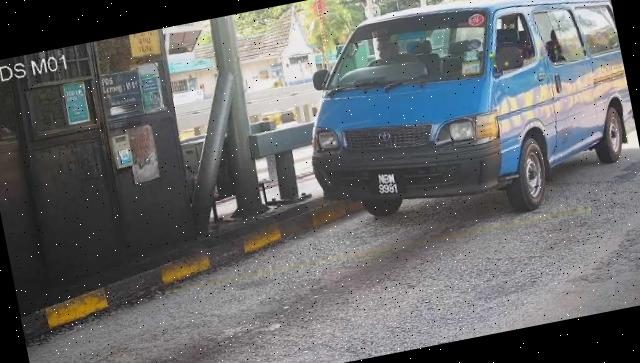License_Plate: (367, 164, 409, 201)
van: (286, 1, 640, 251)
